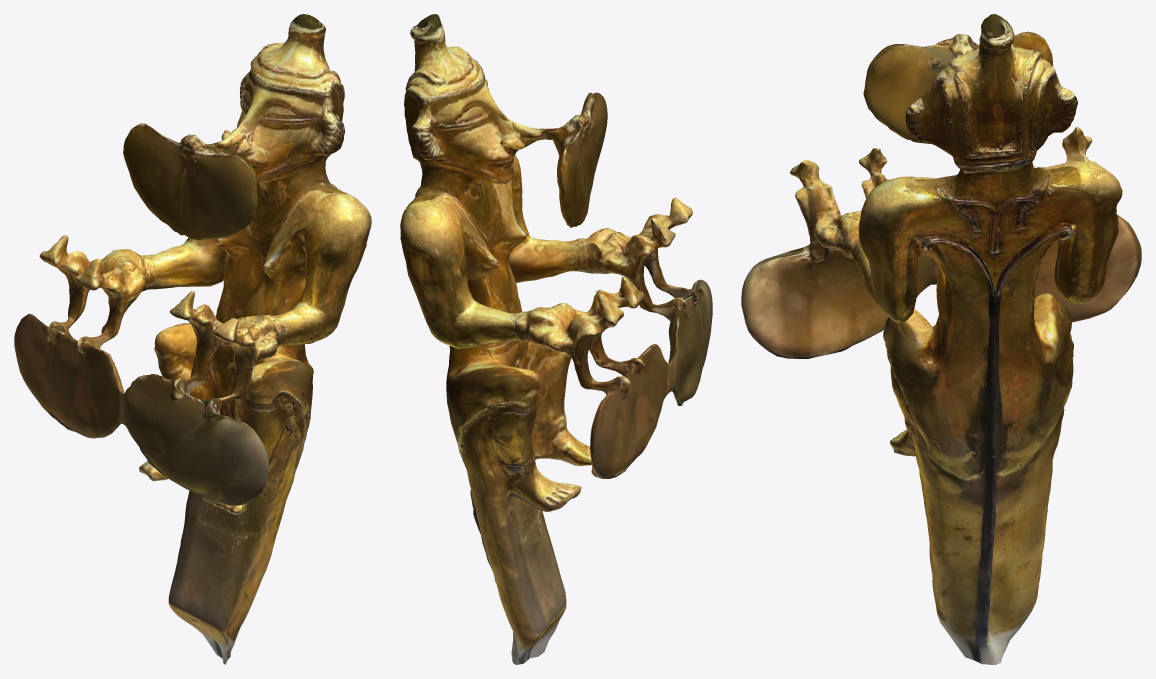
Rendered from popora_de_oro.glb.
3 views of the same model, side by side, from view 1: azimuth 30°, elevation 25°; view 2: azimuth 150°, elevation 25°; view 3: azimuth 270°, elevation 25° (orthographic). The views are drawn at different scales.
Parts seen in each view (by area): view 1: Object_4; view 2: Object_4; view 3: Object_4.
Part boxes in pixels (x1,y1,x2,y2): Object_4: [14, 14, 371, 664]; Object_4: [400, 14, 712, 664]; Object_4: [741, 14, 1141, 664].
Bounding box in the file's own units: 0.1256 × 0.2932 × 0.1536.
Materials: 1 (1 with a texture image).
